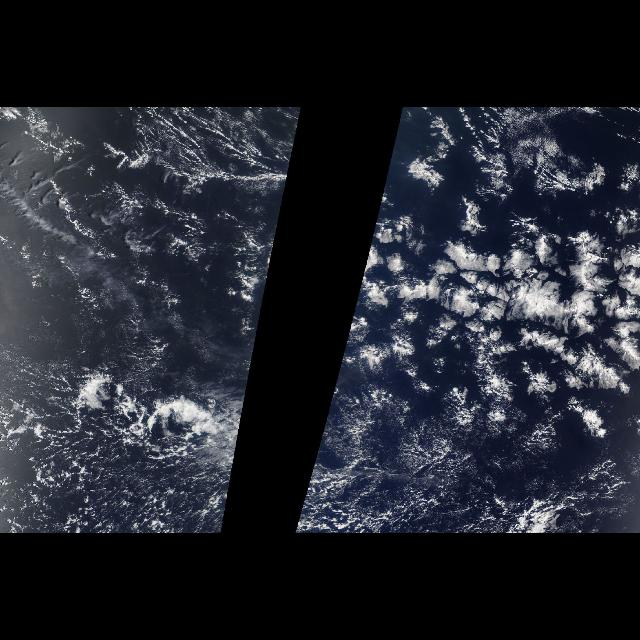Flower: (350, 195, 640, 442)
Gravel: (0, 372, 242, 530)
Sugar: (300, 416, 572, 518)
